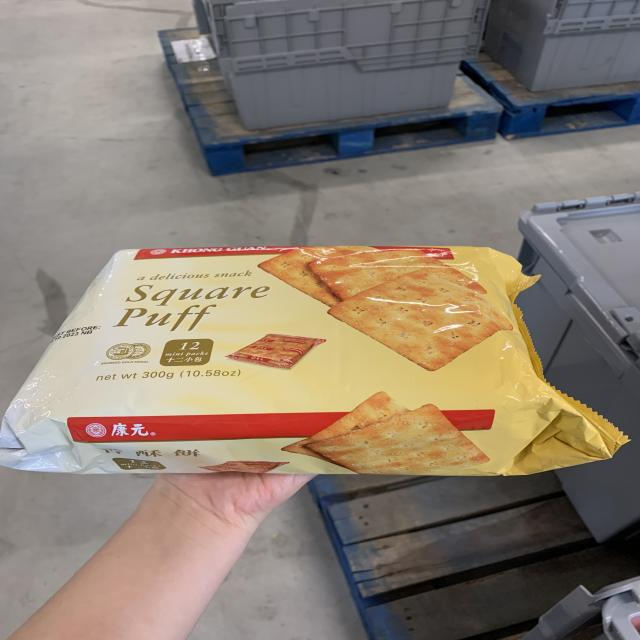object_name: (80, 241, 515, 471)
